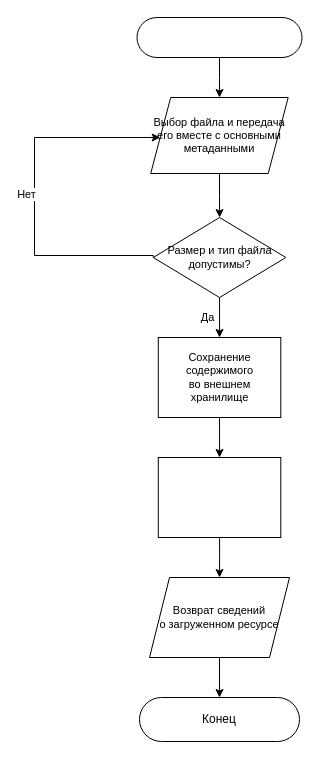
This 320x759 diagram has some shape labels left out. The centre of each missing label's shape, as x and y in pixels:
Начало: point (219, 37)
Фиксация метаданных, ключа хранения и связей в БД: point (219, 497)
